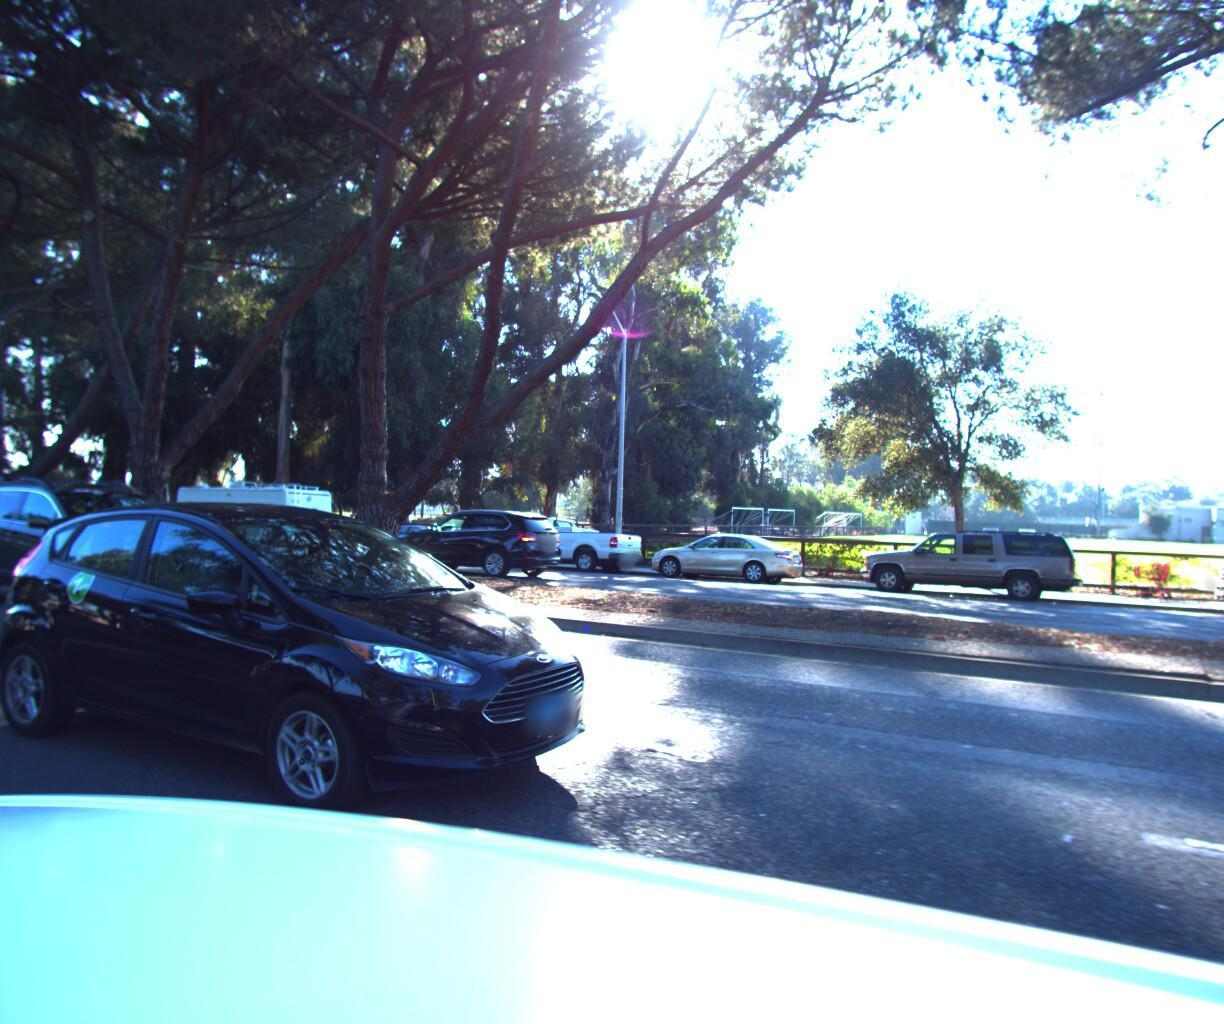car: (0, 478, 657, 858), (0, 465, 257, 635), (844, 525, 1086, 613), (385, 511, 576, 581), (466, 514, 646, 582), (634, 533, 808, 595), (351, 526, 472, 570)
other_vehicle: (156, 485, 343, 558), (1194, 457, 1224, 657), (0, 474, 53, 540)
